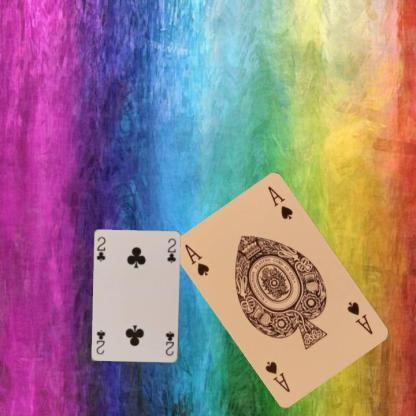2c: (94, 234, 107, 263), (164, 329, 176, 357)
As: (345, 299, 374, 336), (182, 241, 211, 277)
